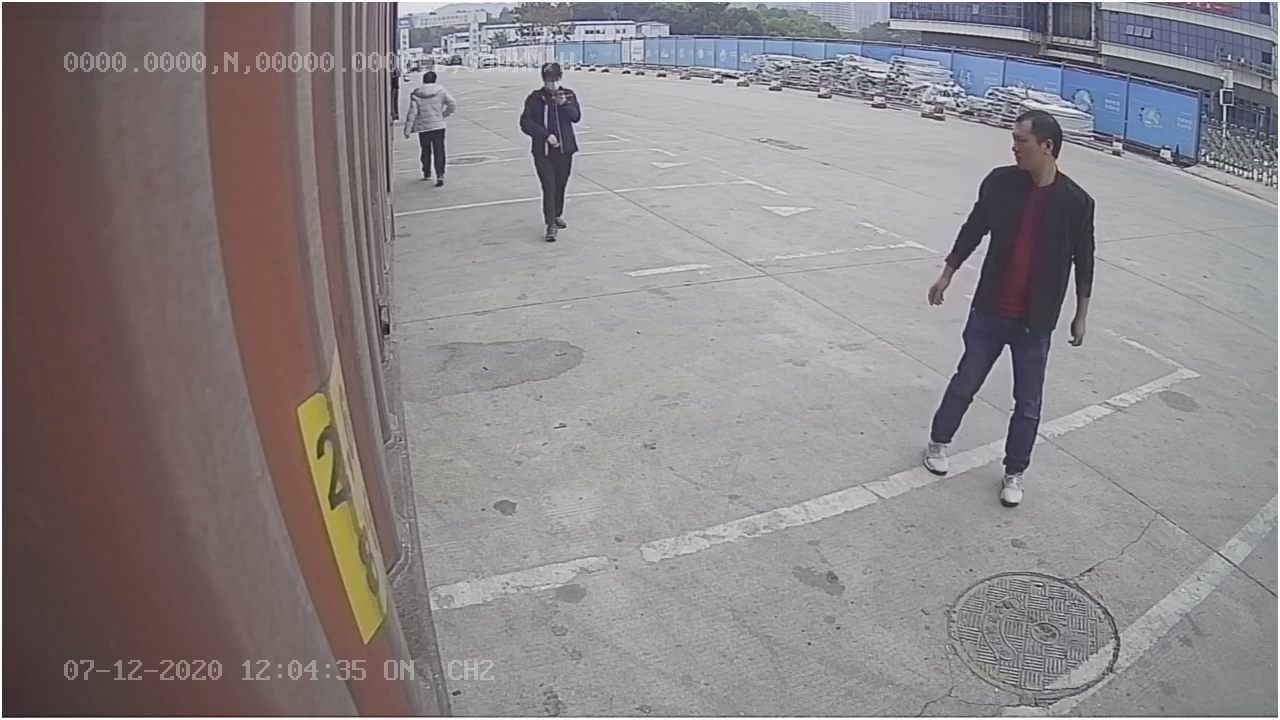person: (922, 108, 1101, 507)
